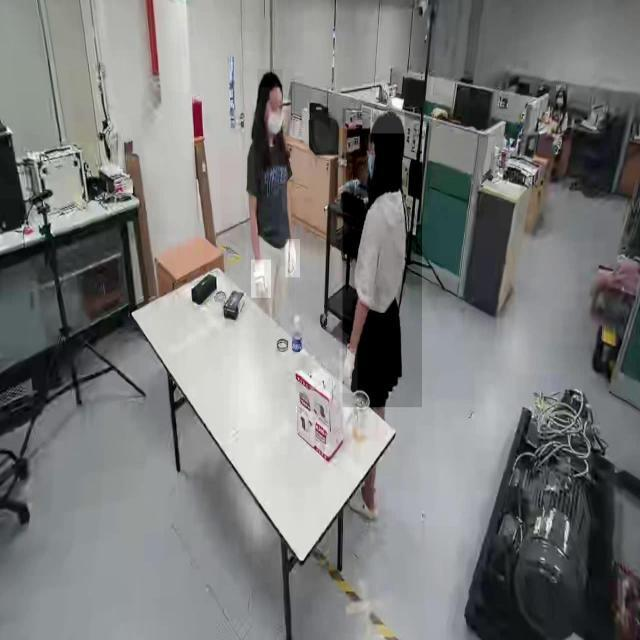gloves: (340, 348, 358, 394), (251, 260, 271, 298), (286, 239, 300, 278)
